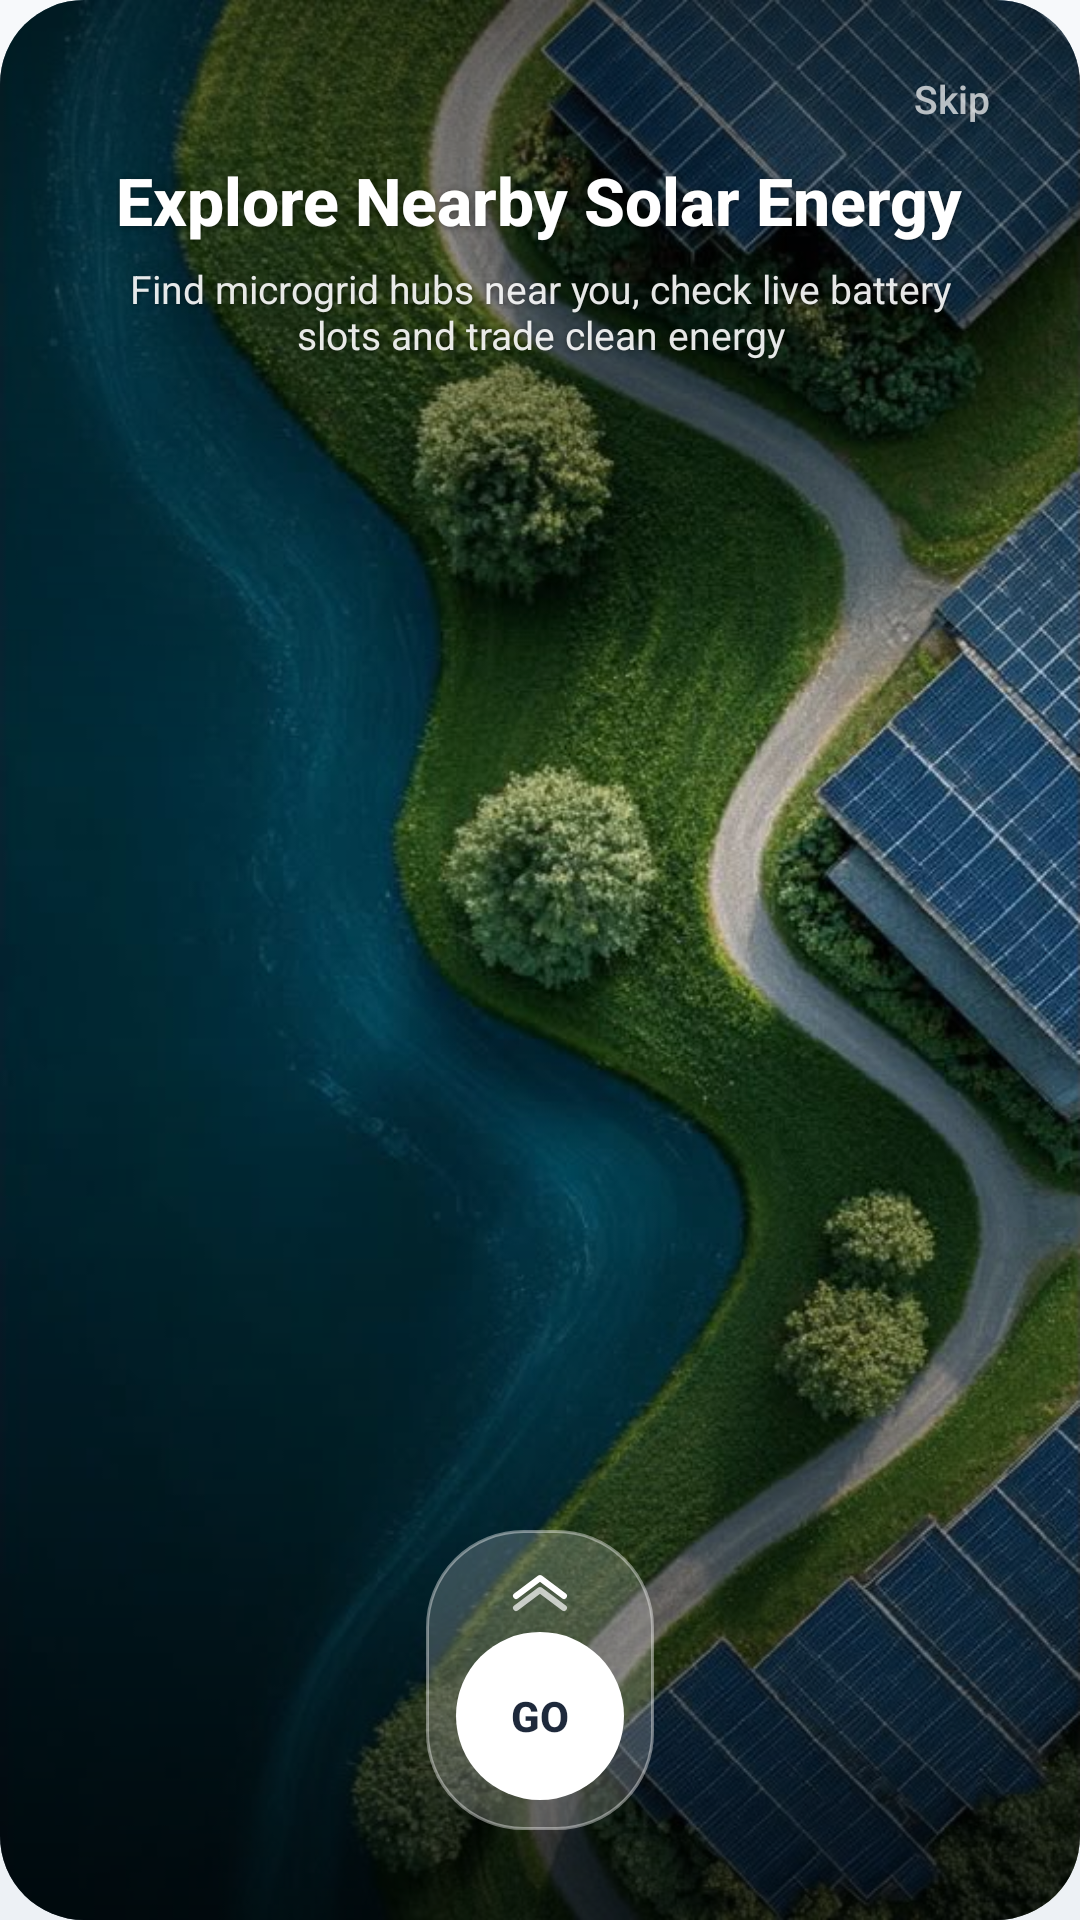

Icon bounding boxes for this 1080x1920 phone screenshot, format (x1, y1, x2, y2):
Next: (506, 1566, 567, 1611)
